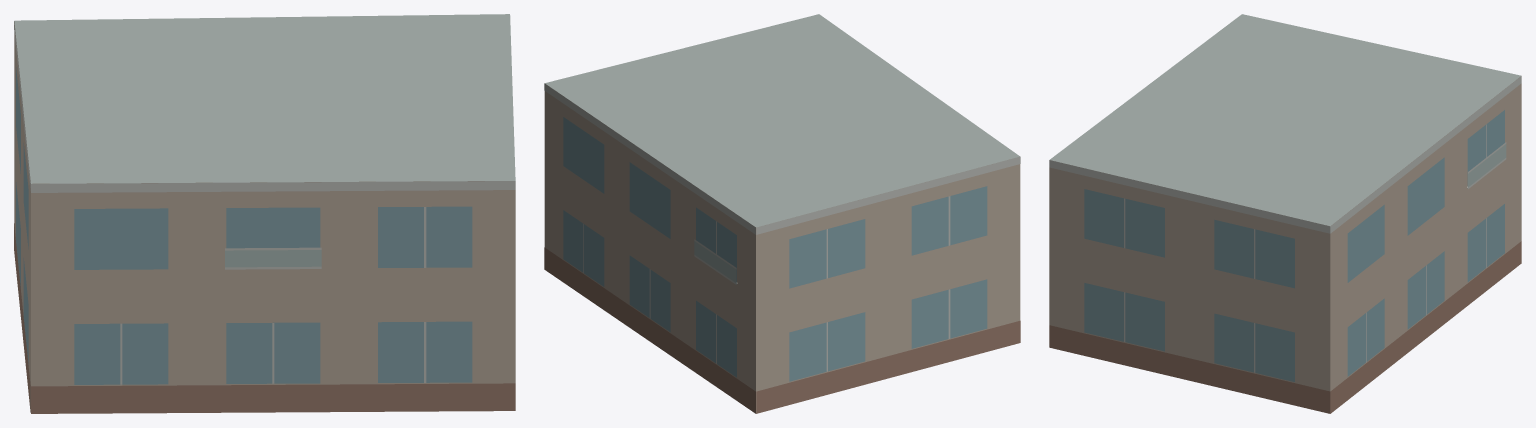
The model's file is survey-upis-32660076.glb.
3 views of the same model, side by side, from view 1: azimuth 30°, elevation 25°; view 2: azimuth 150°, elevation 25°; view 3: azimuth 270°, elevation 25° (orthographic). The views are drawn at different scales.
Parts seen in each view (by area): view 1: survey-upis-32660076.tmp; view 2: survey-upis-32660076.tmp; view 3: survey-upis-32660076.tmp.
Boxes of the visible parts, x1,y1,x2,y2 form: survey-upis-32660076.tmp: [14, 14, 515, 413]; survey-upis-32660076.tmp: [544, 14, 1020, 413]; survey-upis-32660076.tmp: [1049, 14, 1521, 413].
Size of the model in its own units: 14.81 by 6.1 by 13.93.
